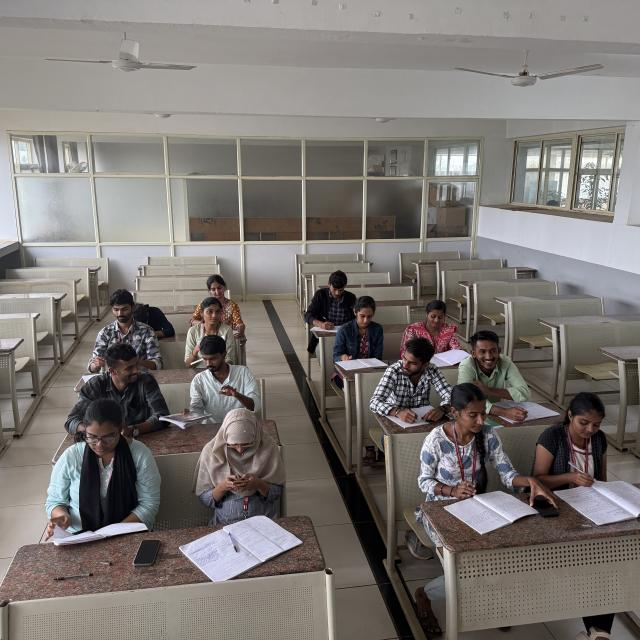Reading: (42, 401, 160, 542), (426, 388, 526, 517), (174, 336, 266, 427), (334, 295, 390, 372), (407, 300, 470, 366)
Sleeping: (129, 301, 178, 342)
Using Phone: (189, 409, 285, 516), (180, 296, 240, 365)
Writing: (536, 390, 639, 502), (376, 333, 456, 421), (305, 271, 358, 340)
